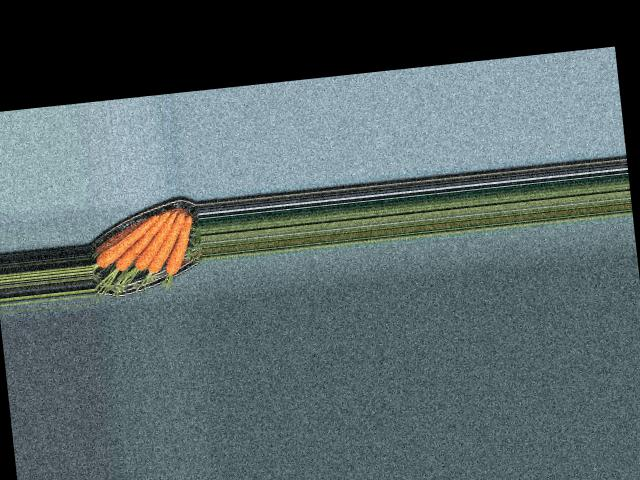carrot: (165, 214, 198, 274)
